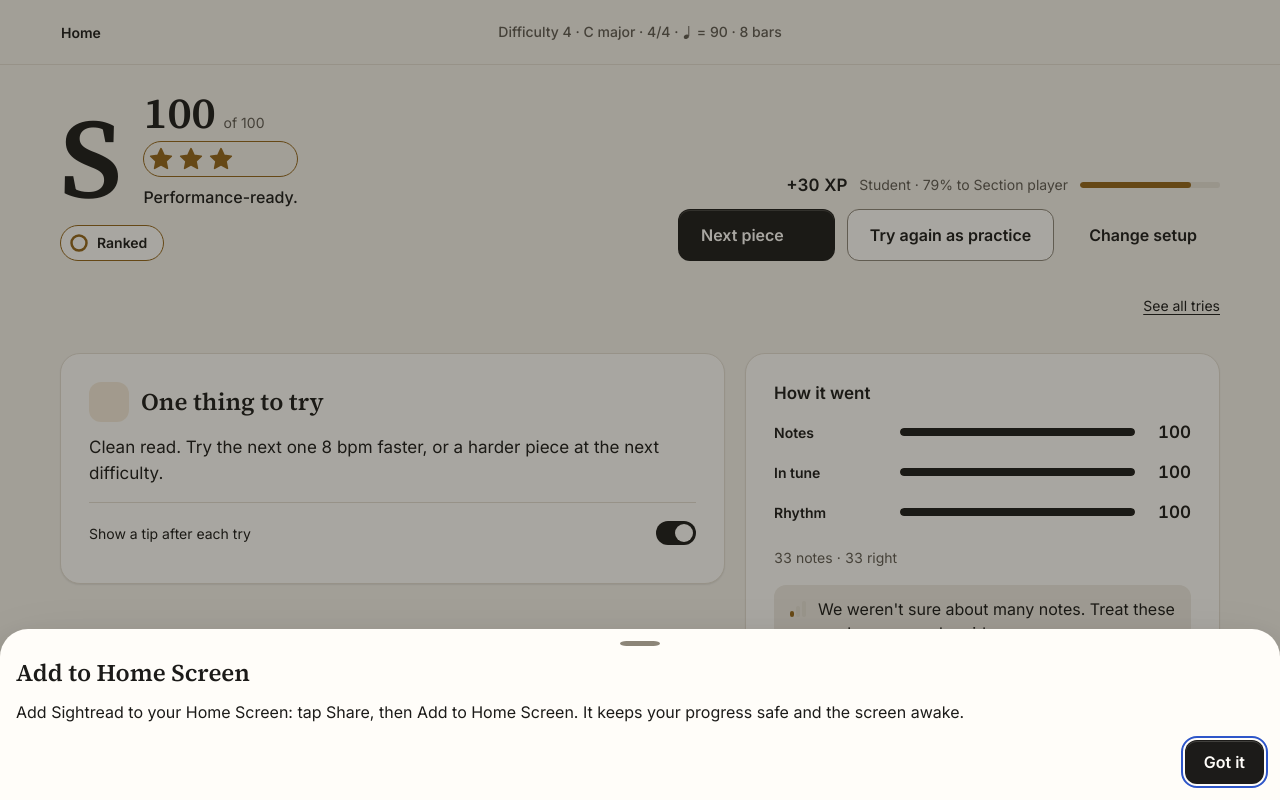
Test: ResultsScreen › install coach: iOS Safari tab, graded attempt, once
Check: the element with test id "install-coach" shows "Add Sightread to your Home Screen", box [16, 702, 964, 722]
Click the button "Got it": [1224, 762] box [1185, 740, 1264, 784]
Wait 500 ms
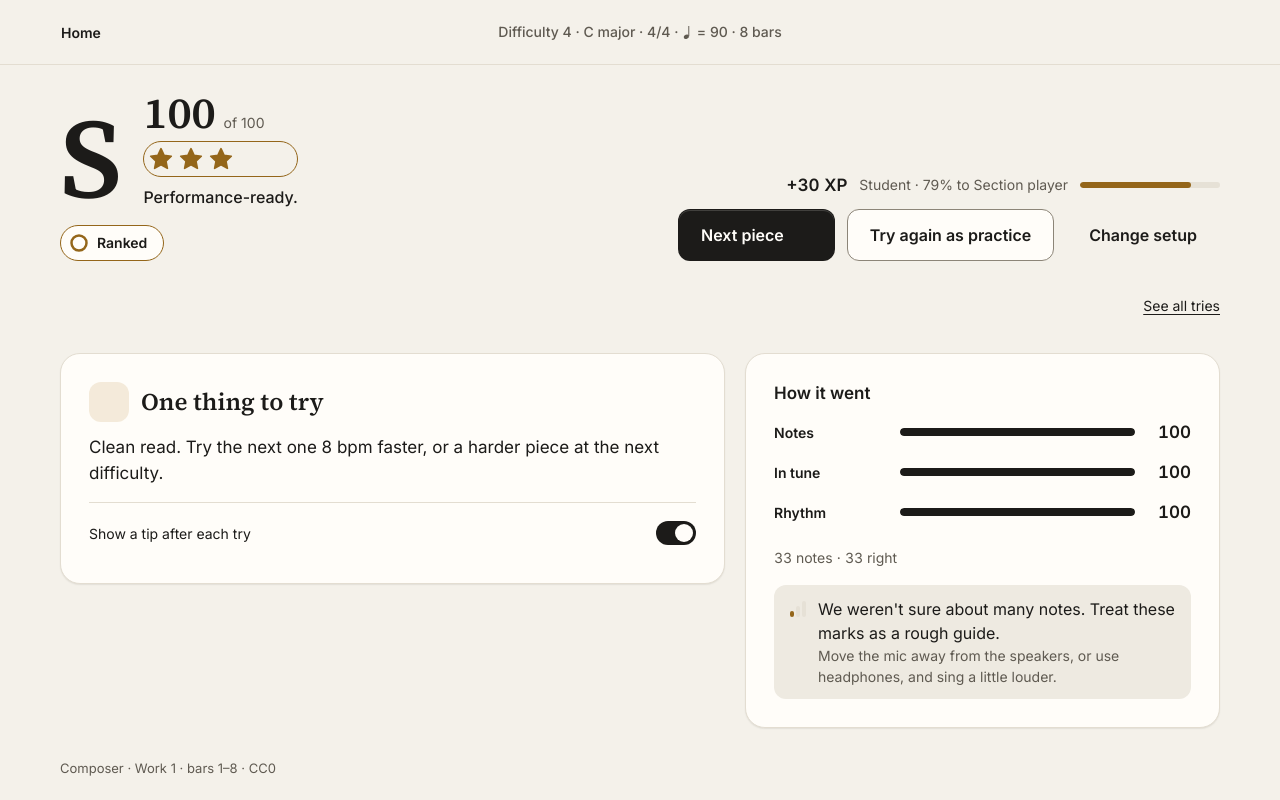
Check: the element with test id "install-coach" is gone
